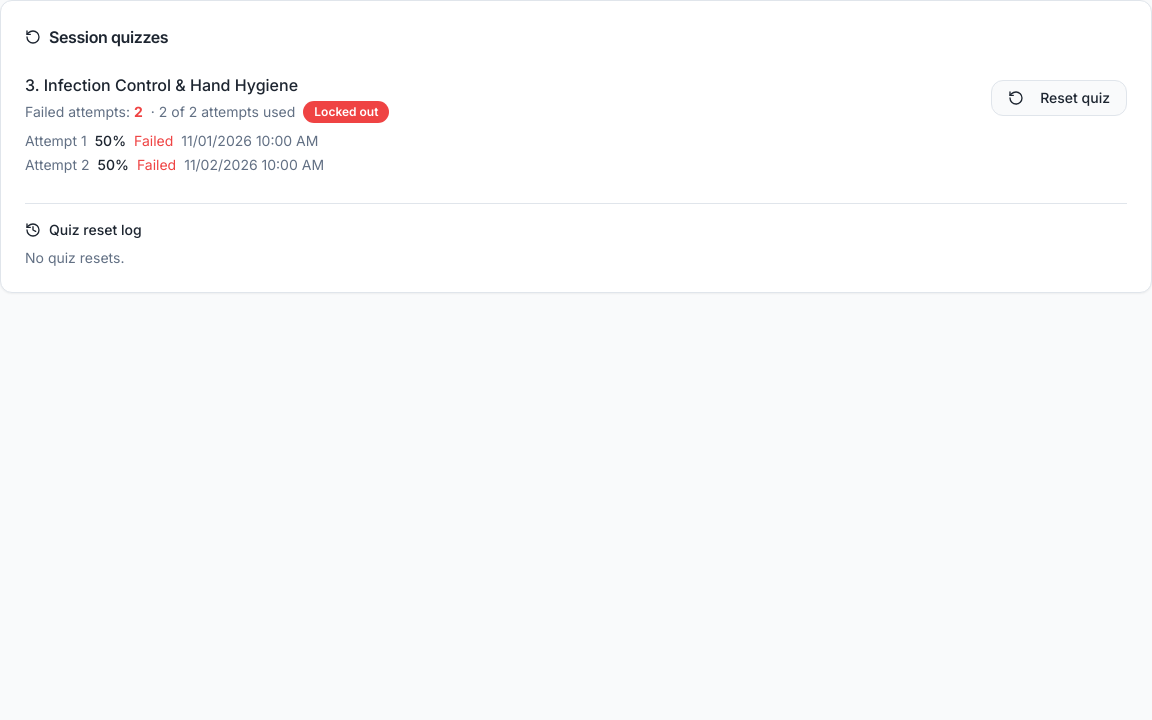
Test: Reset quiz on the In-Service tab (synthetic Test Caregiver only) › shows failed attempts and resets only after the exact confirmation
Later steps or results of the test are not shown.
Expected: the text "2" is shown, [134, 103, 143, 120]
Click the button "Reset quiz".
click(1059, 98)  # box [991, 80, 1127, 116]
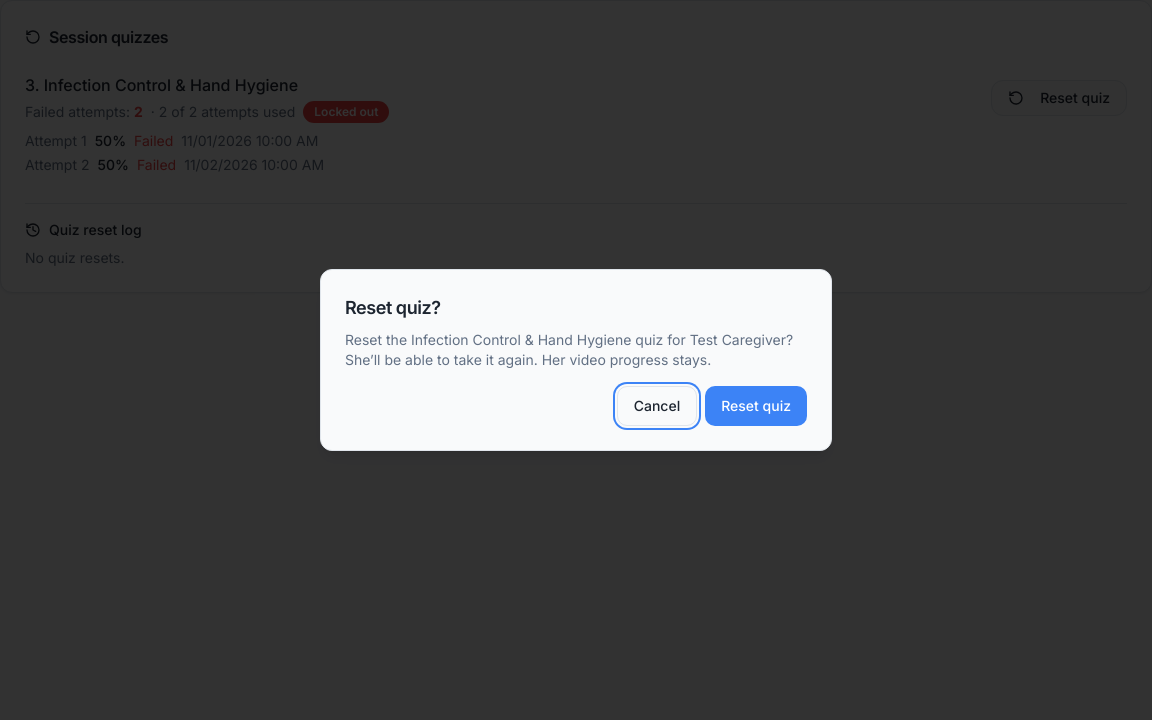
Now the text "Reset the Infection Control & Hand Hygiene quiz for Test Caregiver? She’ll be able to take it again. Her video progress " is shown, box [345, 331, 793, 368]
